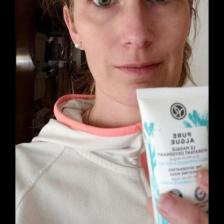Dry: (76, 0, 188, 99)
